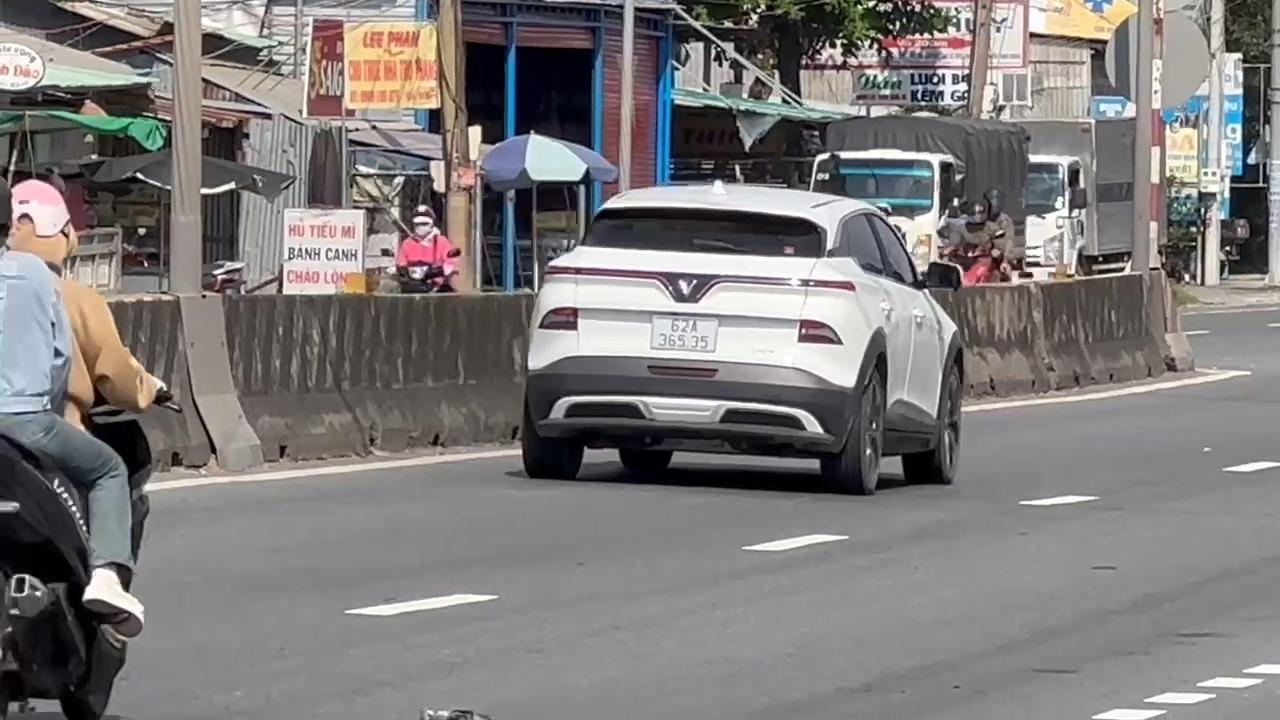bien_so: (649, 314, 718, 352)
